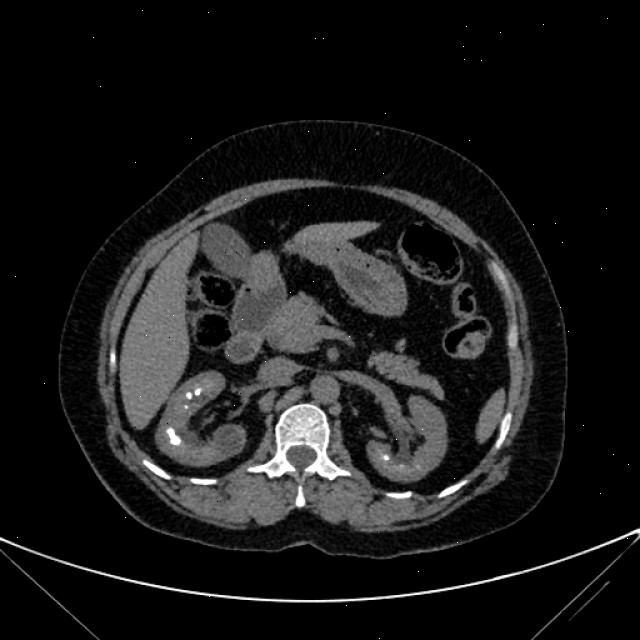kidneystone: (169, 428, 181, 446)
